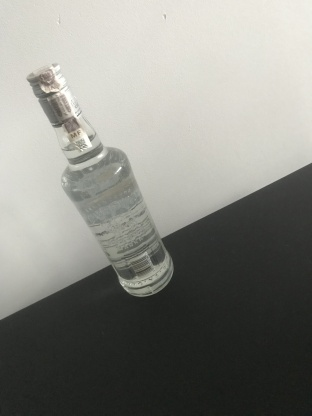nakretka: (24, 60, 83, 128)
